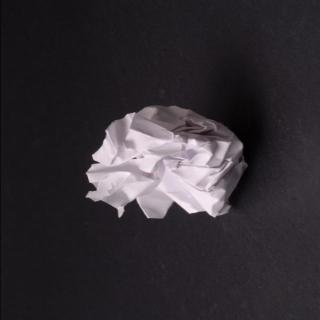Anorganik: (80, 104, 248, 221)
